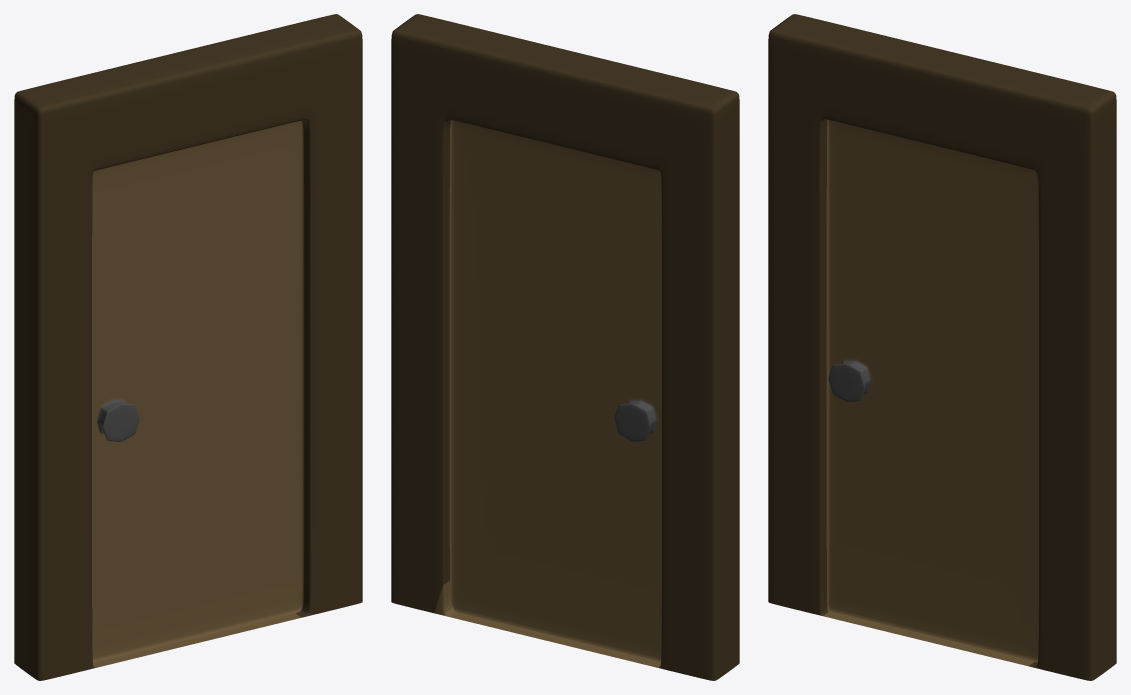
File: Door.fbx
3 views of the same model, side by side, from view 1: azimuth 30°, elevation 25°; view 2: azimuth 150°, elevation 25°; view 3: azimuth 330°, elevation 25° (orthographic).
Parts seen in each view (by area): view 1: Door; view 2: Door; view 3: Door.
Part boxes in pixels (x1,y1,x2,y2): Door: [14, 14, 362, 680]; Door: [391, 14, 739, 680]; Door: [768, 14, 1116, 680].
Size of the model in its own units: 3 by 5.03 by 0.4733.
